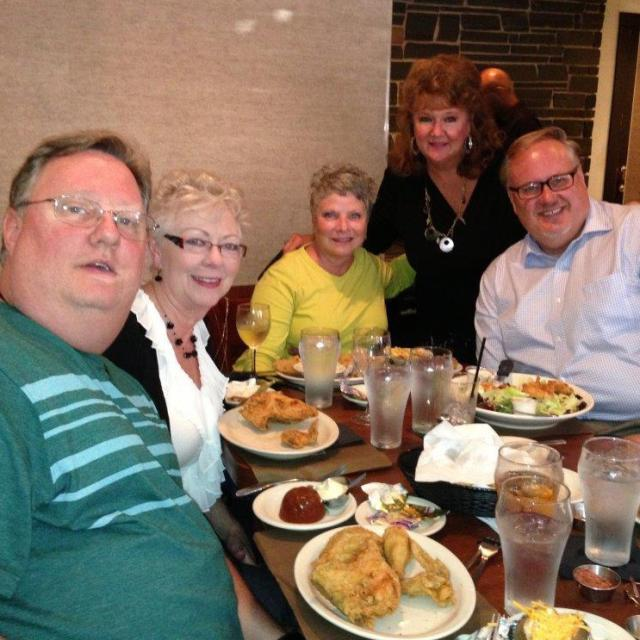body: (0, 120, 304, 640), (278, 52, 531, 378), (101, 170, 250, 565), (471, 124, 640, 435), (230, 161, 419, 377), (478, 66, 540, 148)
